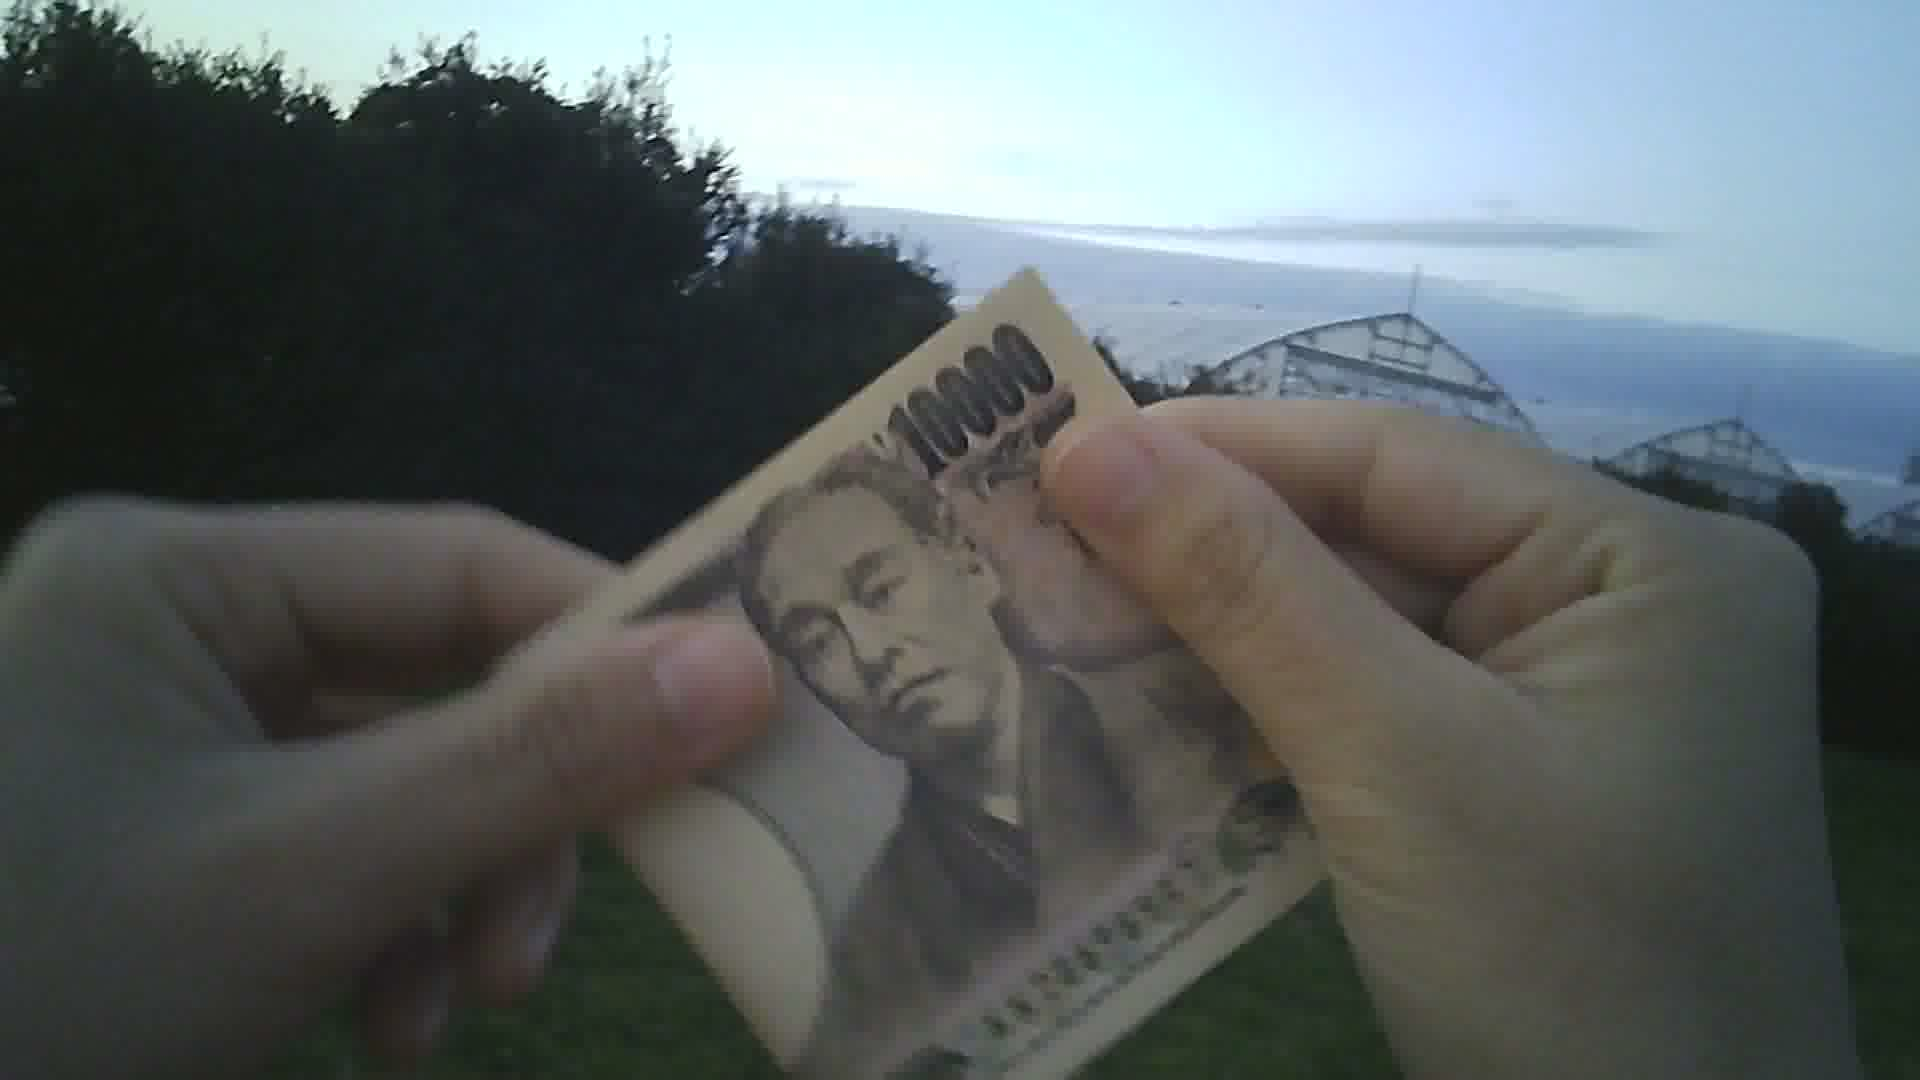10,000 Yen: (473, 247, 1319, 1042)
